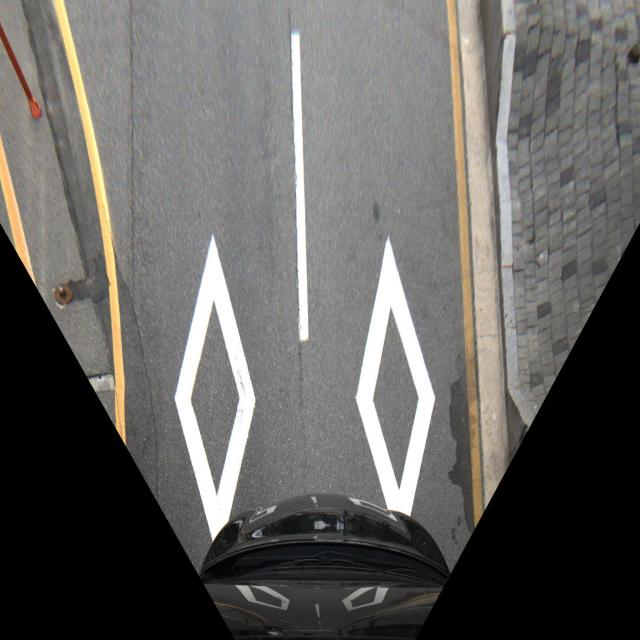diamond: (292, 34, 477, 510)
